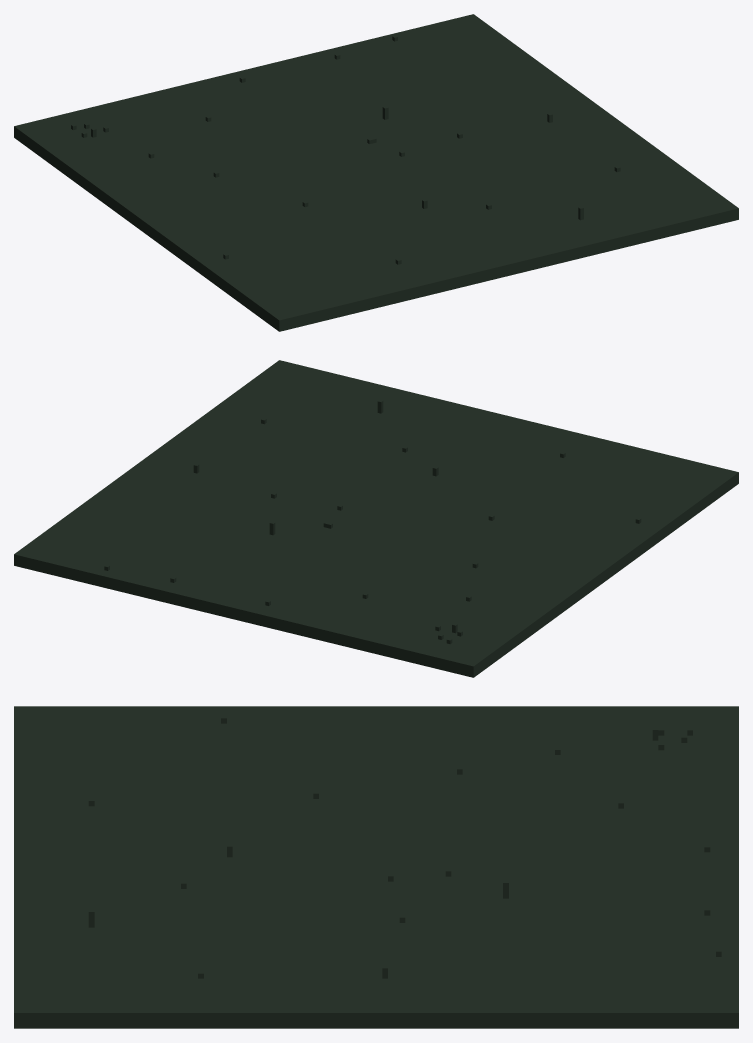
File: GrassPlane.obj
The picture shows the model from 3 angles, top to bottom: view 1: azimuth 30°, elevation 25°; view 2: azimuth 150°, elevation 25°; view 3: azimuth 270°, elevation 25°; orthographic projection. The views are drawn at different scales.
Size of the model in its own units: 126 by 6 by 126.
Materials: 1 (1 with a texture image).
